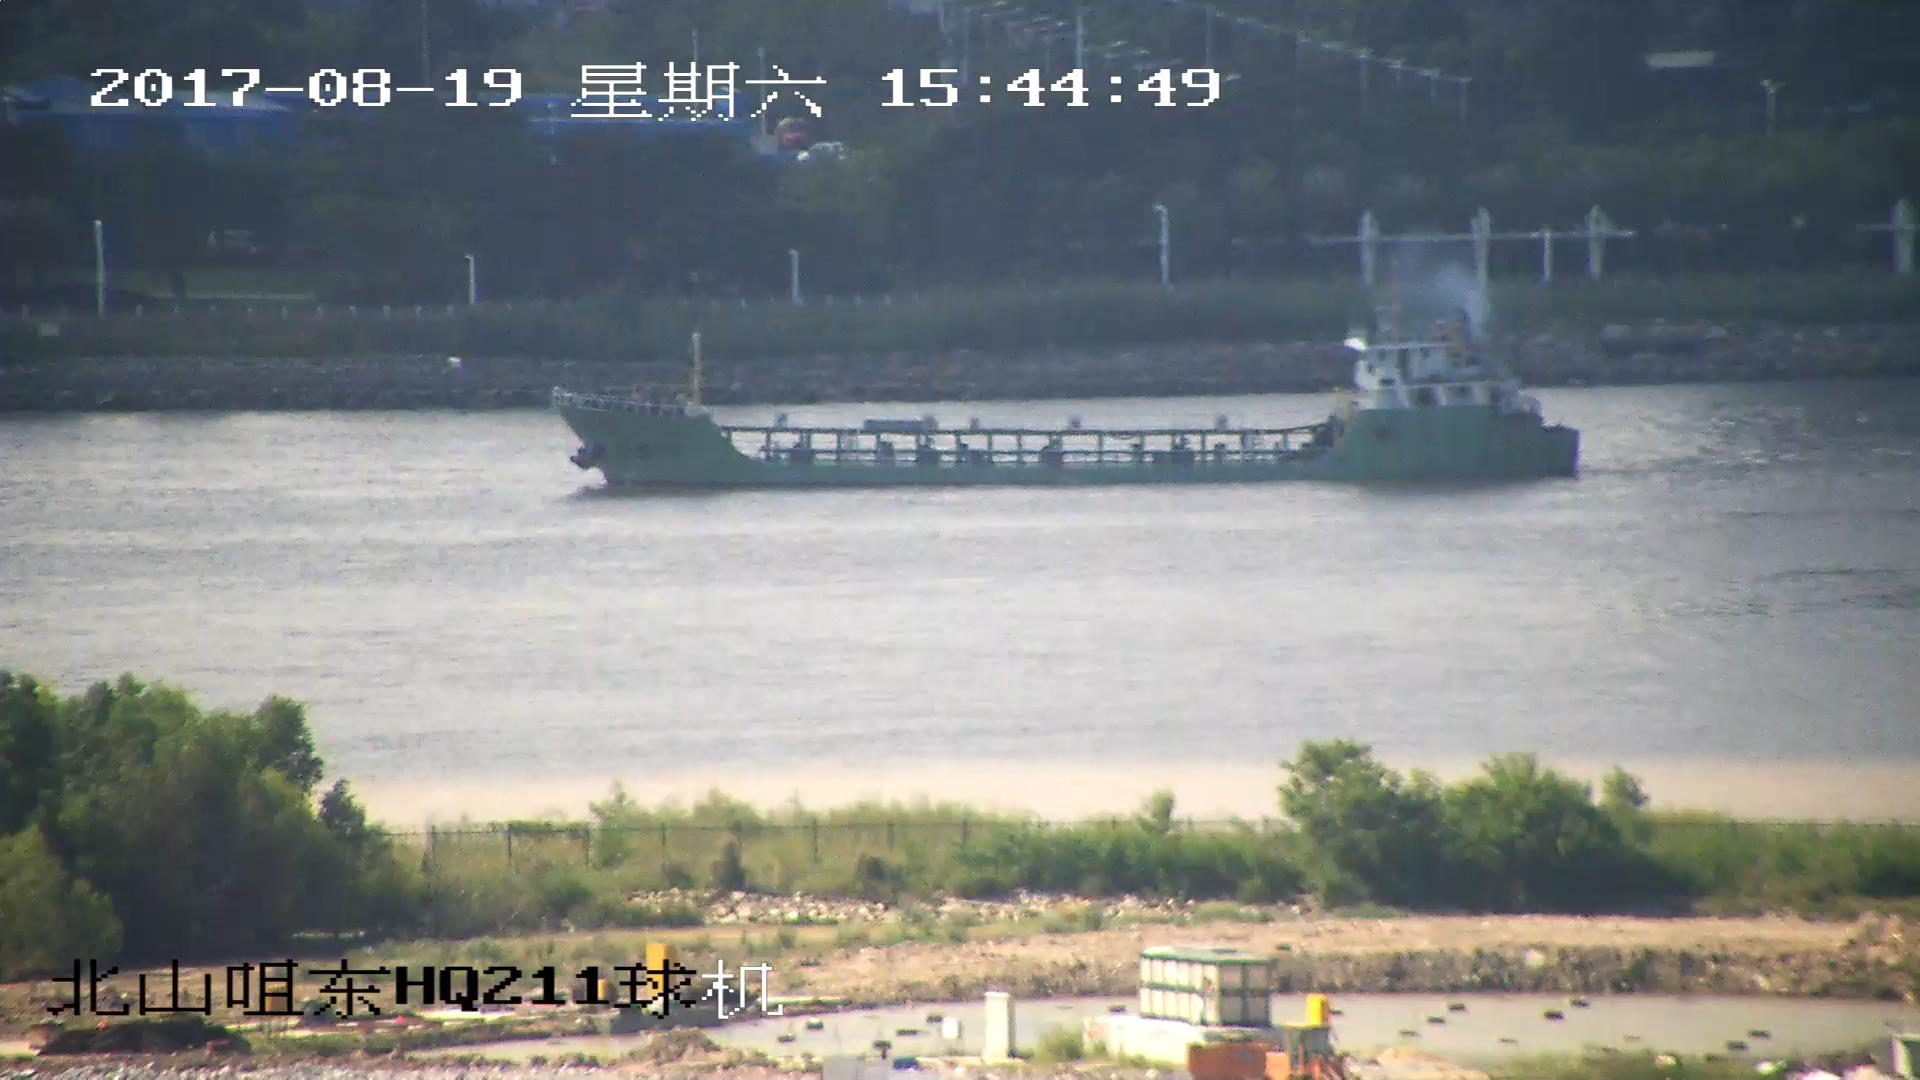Ship: (554, 320, 1586, 491)
